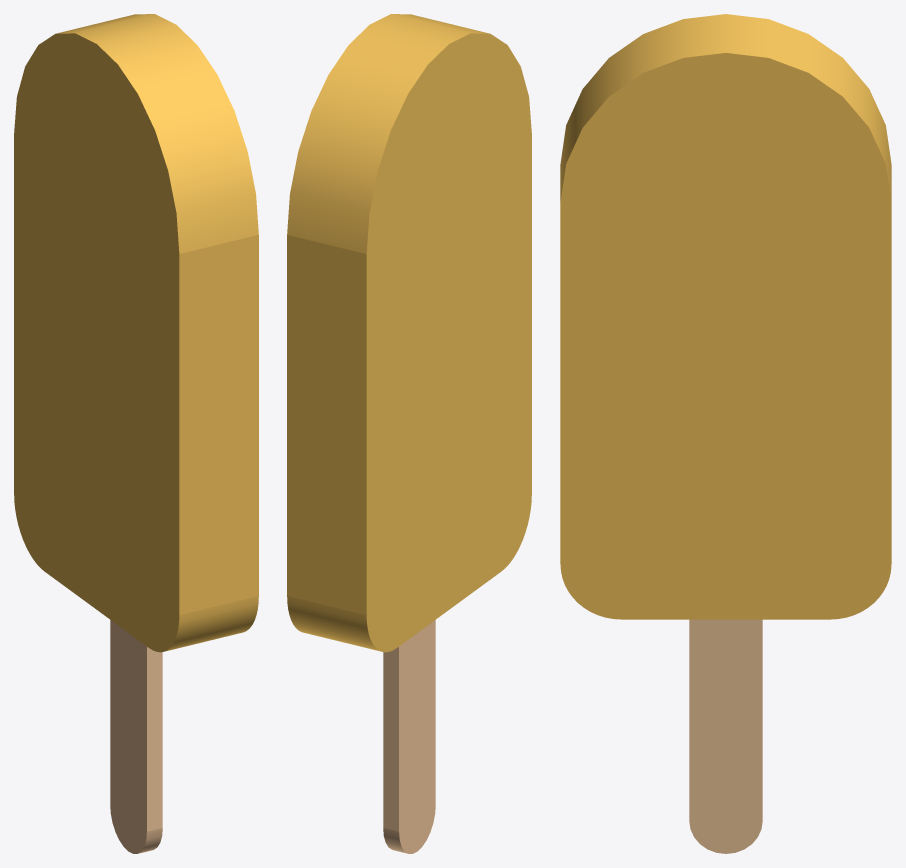
File: popsicle.GLB
The picture shows the model from 3 angles, left to right: view 1: azimuth 30°, elevation 25°; view 2: azimuth 150°, elevation 25°; view 3: azimuth 270°, elevation 25°; orthographic projection.
Parts seen in each view (by area): view 1: popsicle; view 2: popsicle; view 3: popsicle.
Part boxes in pixels (x1,y1,x2,y2): popsicle: (14,14,258,853); popsicle: (287,14,531,853); popsicle: (560,14,891,853).
Size of the model in its own units: 0.05 by 0.49 by 0.18.
